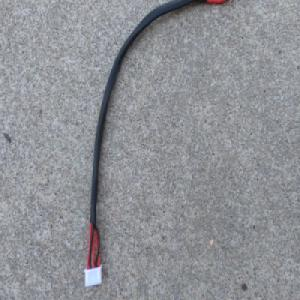Wire: (82, 0, 230, 289)
